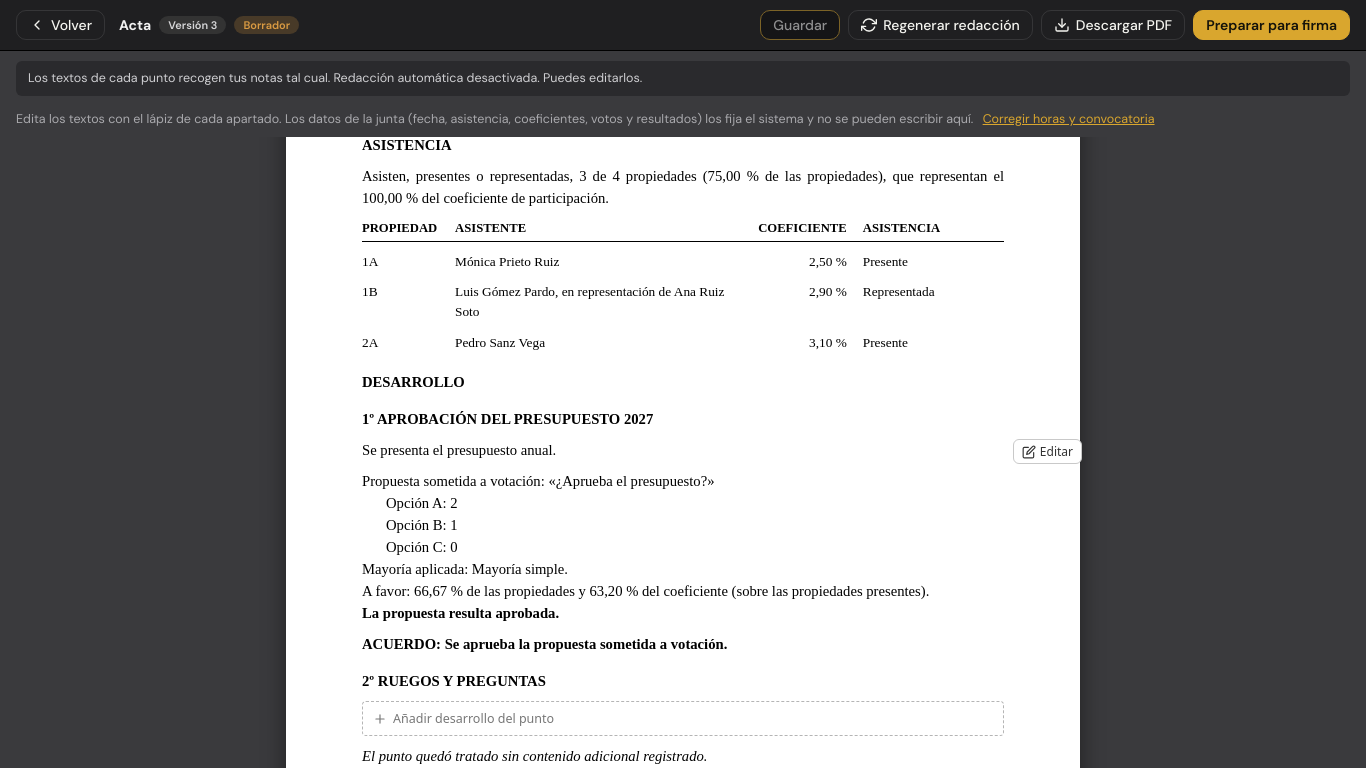
it: ActaViewerComponent — visor documental del acta › edición por bloques › editar el desarrollo de un punto: aparece el cuadro de texto, se aplica y queda «Cambios sin guardar»
(page scrolled)
Click the button with class "blk__edit" at (1047, 452), box [1013,439,1082,464]
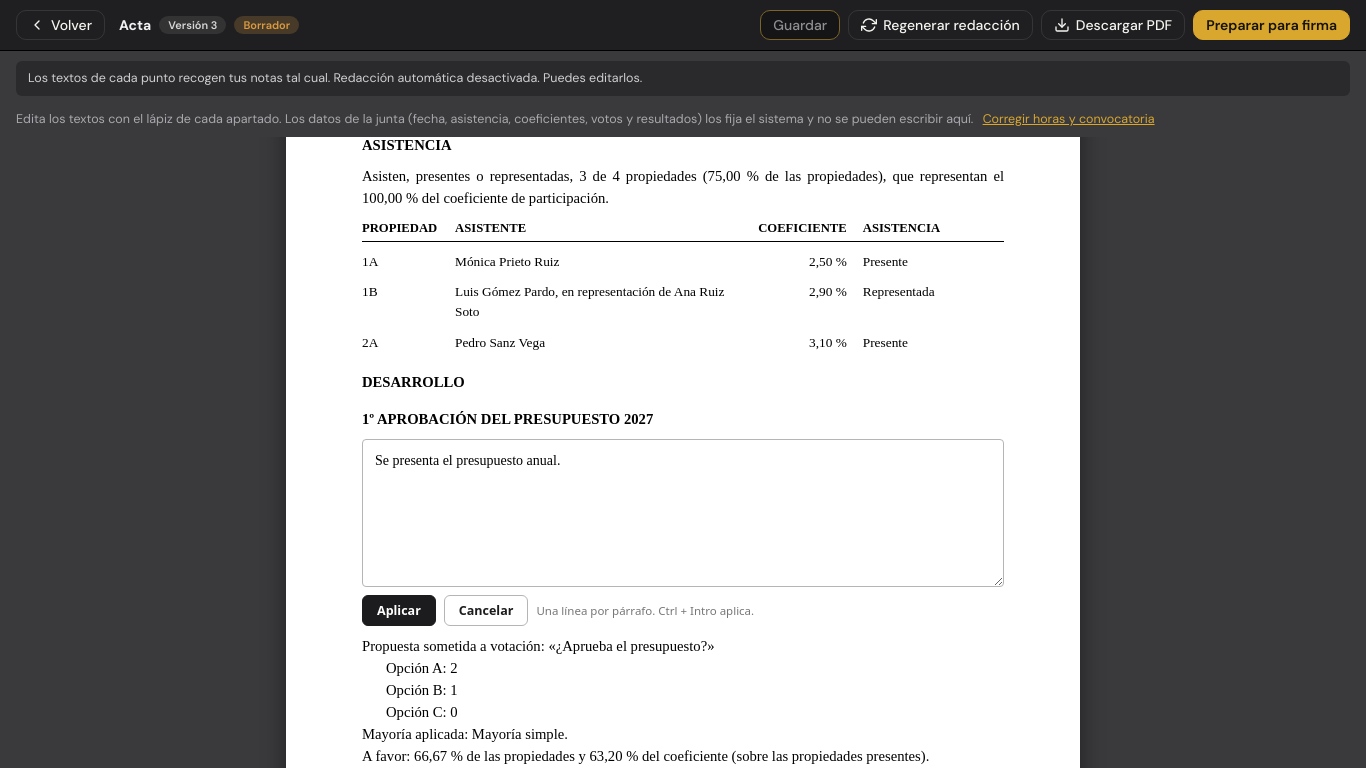
Now the text box named "Texto del acta" holds "Se presenta el presupuesto anual."
Replace the text in the text box named "Texto del acta" with "Texto corregido por la gestora." at (683, 513), box [362,439,1004,587]
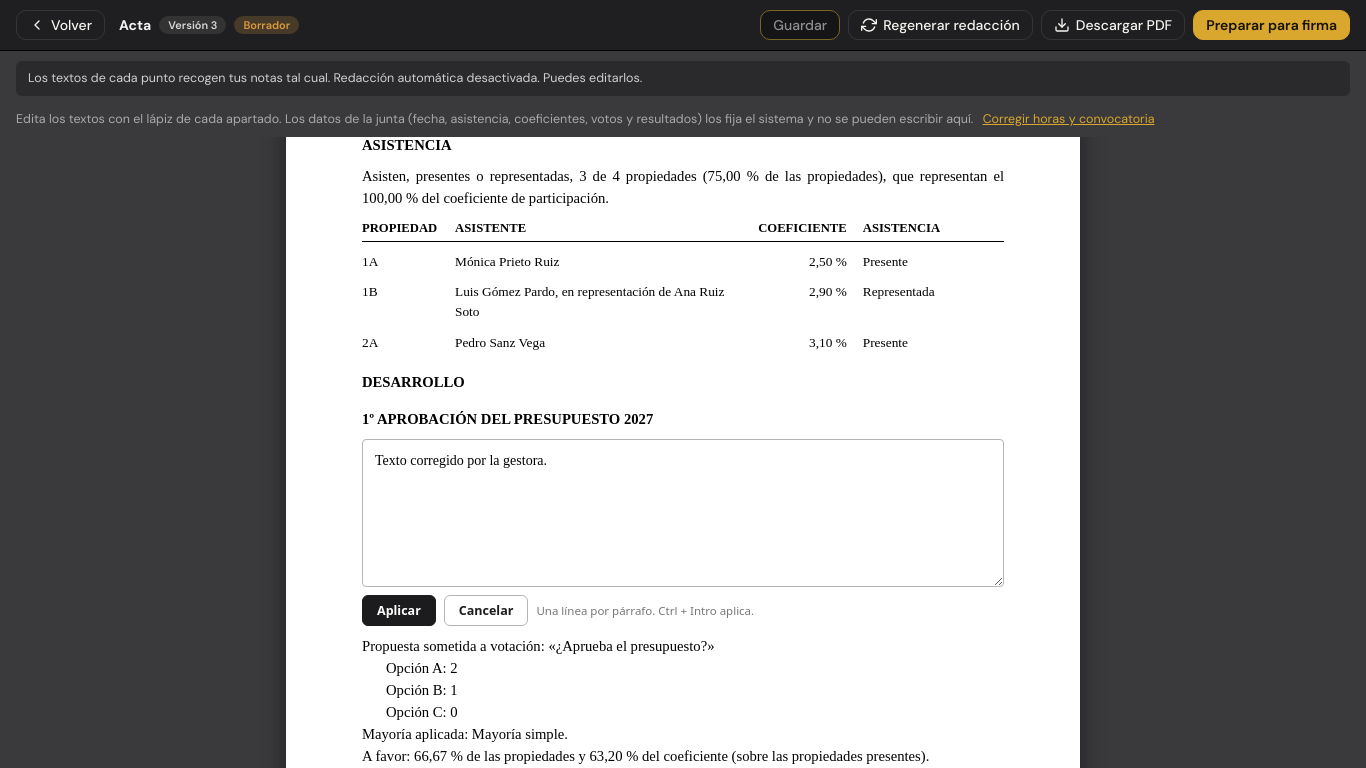
Click the button "Aplicar" at (399, 611), box [362,595,436,626]
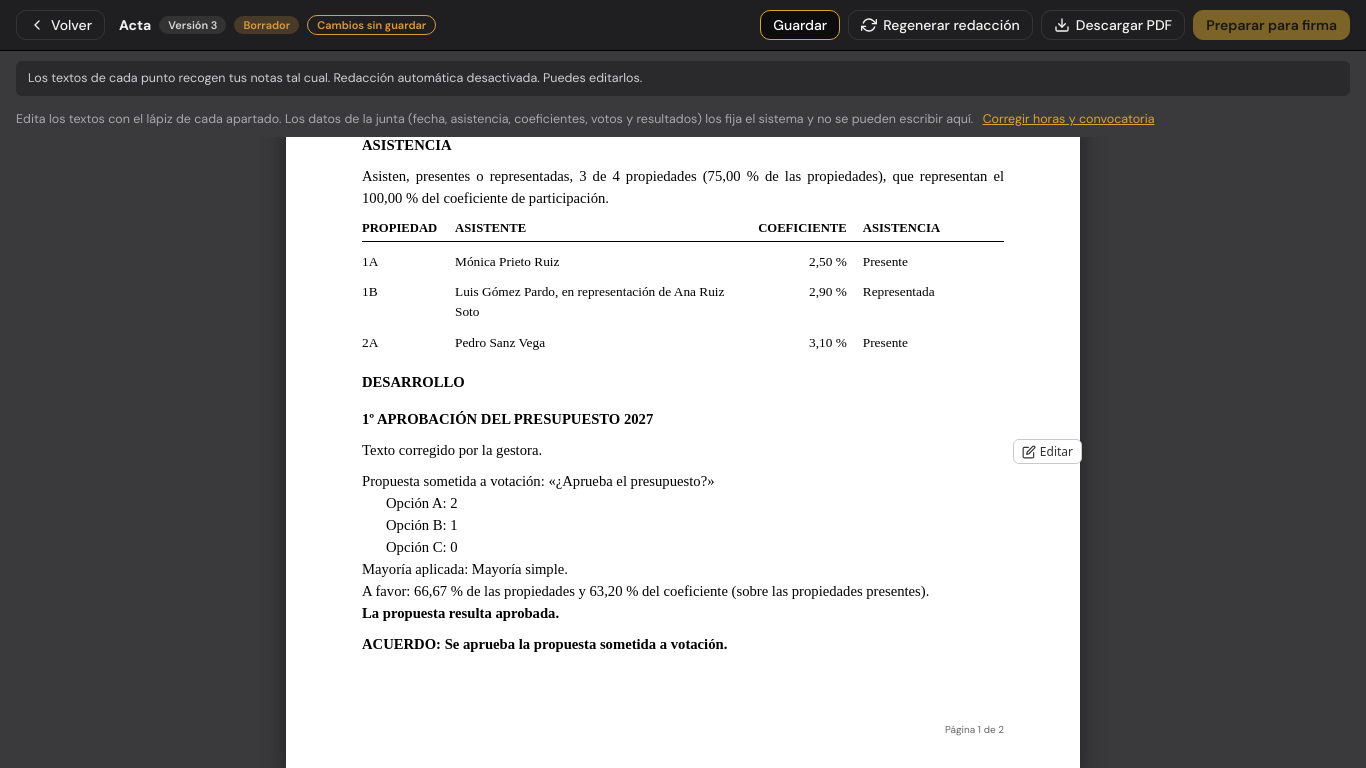
Now the text box is gone
Now the element that starts with "ACTA DE LA JUNTA GENERAL ORDINARIA" shows "Texto corregido por la gestora.", box [362,442,542,458]
Now the text "Cambios sin guardar" is shown, box [307,15,436,35]
